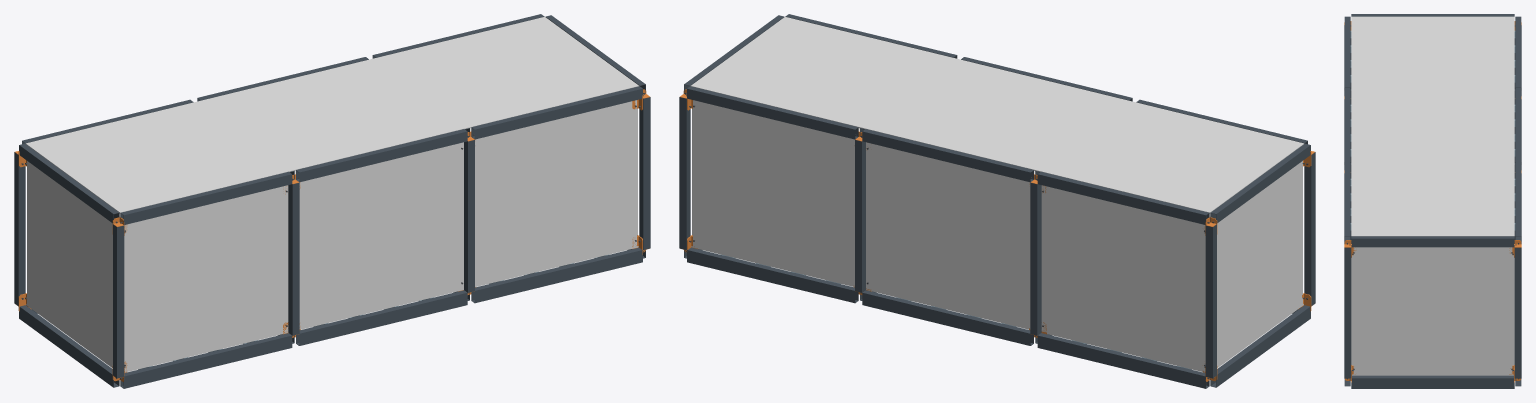
File: product.glb
3 renders of one model, left to right at view 1: azimuth 30°, elevation 25°; view 2: azimuth 150°, elevation 25°; view 3: azimuth 270°, elevation 25°, orthographic. The views are drawn at different scales.
Parts seen in each view (by area): view 1: Wall_south, RoofPanel, Wall_west, MW900_FLOOR_SIDE_B2_S1.002, MW900_FLOOR_SIDE_B1_S1.002, MW900_FLOOR_SIDE_B3_S1.002, MW900_ROOF_SIDE_B3_S1.002, MW900_ROOF_SIDE_B2_S1.002, MW900_ROOF_SIDE_B1_S1.002, MW900_COL_X1_S1.002, MW900_COL_X2_S1.002, MW900_FLOOR_END_E1.002 (+9 smaller); view 2: Wall_north, RoofPanel, Wall_west, MW900_FLOOR_SIDE_B2_S2.002, MW900_FLOOR_SIDE_B1_S2.002, MW900_FLOOR_SIDE_B3_S2.002, MW900_ROOF_SIDE_B3_S2.002, MW900_ROOF_SIDE_B2_S2.002, MW900_ROOF_SIDE_B1_S2.002, MW900_COL_X1_S2.002, MW900_COL_X2_S2.002, MW900_FLOOR_END_E1.002 (+9 smaller); view 3: RoofPanel, Wall_east, MW900_FLOOR_END_E2.002, MW900_ROOF_END_E2.002, MW900_COL_X4_S1.002, MW900_COL_X4_S2.002, MW900_ROOF_SIDE_B3_S1.002, MW900_ROOF_SIDE_B3_S2.002, MW900_ROOF_SIDE_B1_S1.002, MW900_ROOF_SIDE_B1_S2.002, MW900_ROOF_SIDE_B2_S1.002, MW900_ROOF_SIDE_B2_S2.002 (+4 smaller).
Boxes of the visible parts, left/top/right/bottom form: Wall_south: left=124, top=100, right=636, bottom=370; RoofPanel: left=25, top=17, right=638, bottom=213; Wall_west: left=27, top=161, right=112, bottom=366; MW900_FLOOR_SIDE_B2_S1.002: left=296, top=290, right=467, bottom=345; MW900_FLOOR_SIDE_B1_S1.002: left=120, top=333, right=292, bottom=388; MW900_FLOOR_SIDE_B3_S1.002: left=471, top=247, right=642, bottom=303; MW900_ROOF_SIDE_B3_S1.002: left=471, top=86, right=642, bottom=139; MW900_ROOF_SIDE_B2_S1.002: left=296, top=129, right=467, bottom=182; MW900_ROOF_SIDE_B1_S1.002: left=120, top=171, right=292, bottom=224; MW900_COL_X1_S1.002: left=113, top=224, right=124, bottom=378; MW900_COL_X2_S1.002: left=288, top=182, right=299, bottom=335; MW900_FLOOR_END_E1.002: left=19, top=305, right=119, bottom=387; Wall_north: left=693, top=100, right=1205, bottom=370; RoofPanel: left=691, top=17, right=1304, bottom=213; Wall_west: left=1217, top=161, right=1302, bottom=366; MW900_FLOOR_SIDE_B2_S2.002: left=862, top=290, right=1033, bottom=345; MW900_FLOOR_SIDE_B1_S2.002: left=1037, top=333, right=1209, bottom=388; MW900_FLOOR_SIDE_B3_S2.002: left=687, top=247, right=858, bottom=303; MW900_ROOF_SIDE_B3_S2.002: left=687, top=86, right=858, bottom=139; MW900_ROOF_SIDE_B2_S2.002: left=862, top=129, right=1033, bottom=182; MW900_ROOF_SIDE_B1_S2.002: left=1037, top=171, right=1209, bottom=224; MW900_COL_X1_S2.002: left=1205, top=224, right=1216, bottom=378; MW900_COL_X2_S2.002: left=1030, top=182, right=1041, bottom=335; MW900_FLOOR_END_E1.002: left=1210, top=305, right=1310, bottom=387; RoofPanel: left=1351, top=16, right=1514, bottom=236; Wall_east: left=1353, top=247, right=1512, bottom=374; MW900_FLOOR_END_E2.002: left=1351, top=375, right=1514, bottom=388; MW900_ROOF_END_E2.002: left=1351, top=236, right=1514, bottom=247; MW900_COL_X4_S1.002: left=1344, top=245, right=1351, bottom=378; MW900_COL_X4_S2.002: left=1514, top=245, right=1521, bottom=378; MW900_ROOF_SIDE_B3_S1.002: left=1344, top=165, right=1350, bottom=241; MW900_ROOF_SIDE_B3_S2.002: left=1515, top=165, right=1521, bottom=241; MW900_ROOF_SIDE_B1_S1.002: left=1344, top=16, right=1350, bottom=90; MW900_ROOF_SIDE_B1_S2.002: left=1515, top=16, right=1521, bottom=90; MW900_ROOF_SIDE_B2_S1.002: left=1344, top=90, right=1350, bottom=164; MW900_ROOF_SIDE_B2_S2.002: left=1515, top=90, right=1521, bottom=164.
Bounding box in the file's own units: 9 × 2.8 × 3.
